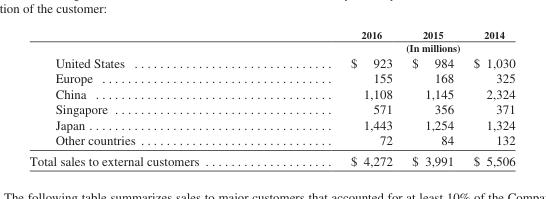table: (28, 28, 514, 167)
table column: (28, 28, 274, 167), (274, 28, 401, 167), (401, 28, 462, 167), (462, 28, 514, 167)
table column header: (28, 28, 514, 54)
table row: (28, 132, 514, 150), (28, 150, 514, 167), (28, 54, 514, 70), (28, 85, 514, 101), (28, 116, 514, 132), (28, 70, 514, 85), (28, 101, 514, 116), (28, 28, 514, 41), (28, 41, 514, 54)
table spanning cell: (274, 41, 514, 54)
